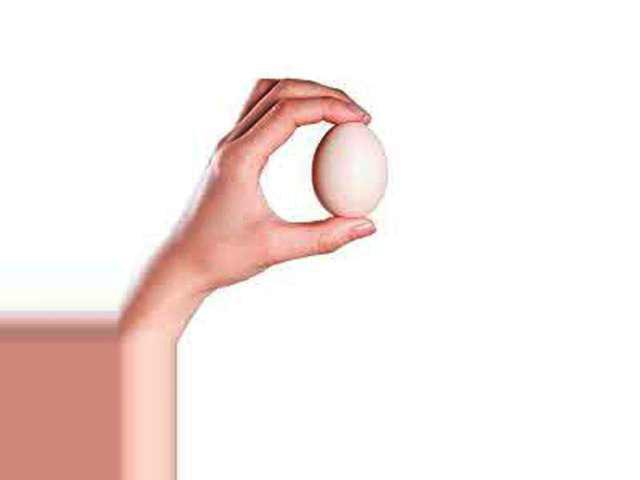egg: (311, 121, 387, 219)
